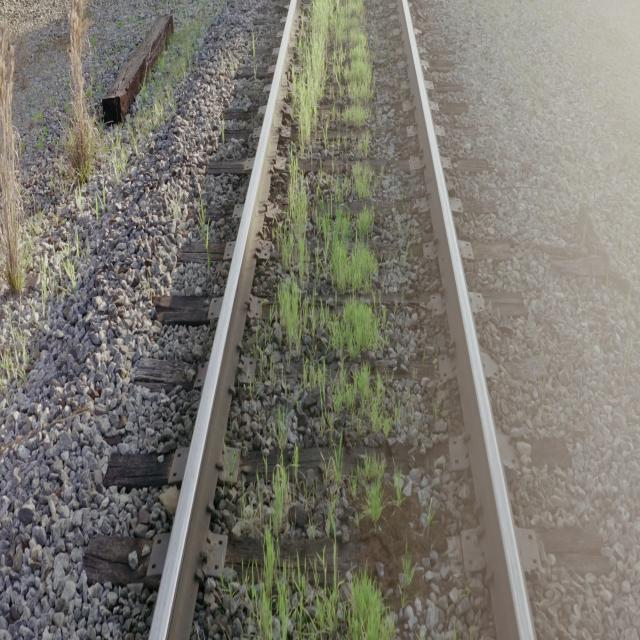Plant: (275, 0, 399, 542), (249, 444, 395, 640), (400, 551, 415, 600), (274, 407, 288, 451), (390, 471, 401, 509)
